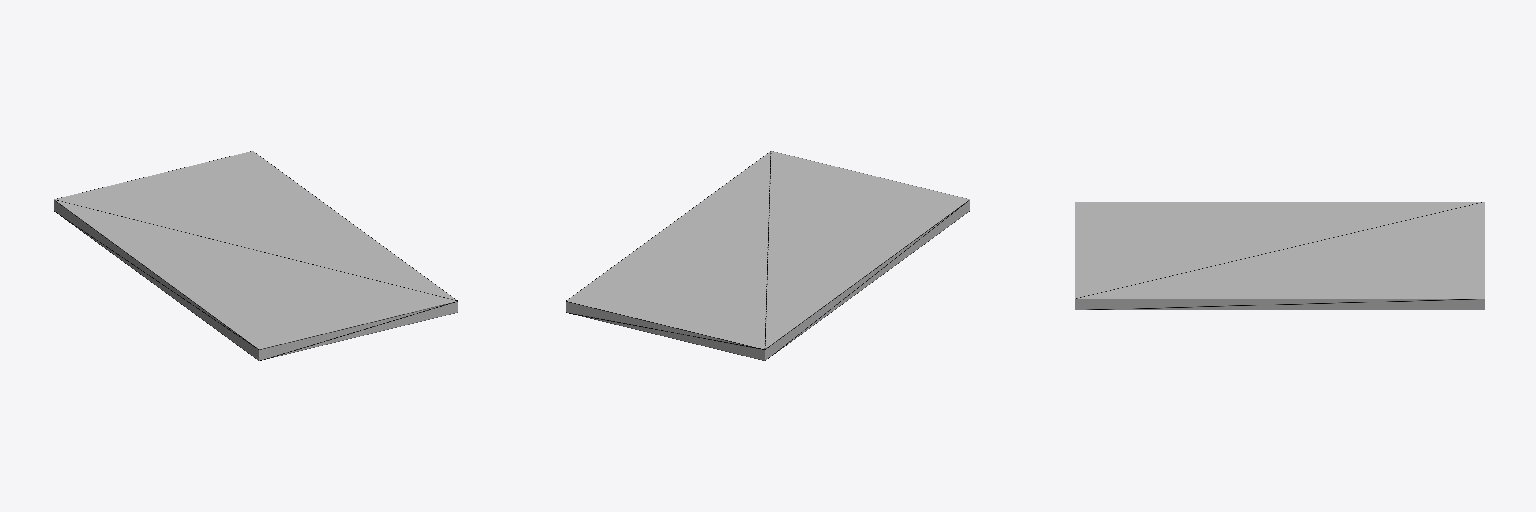
The picture shows the model from 3 angles: view 1: azimuth 30°, elevation 25°; view 2: azimuth 150°, elevation 25°; view 3: azimuth 270°, elevation 25°; orthographic projection.
Visible parts, largest first — view 1: foundationCube; view 2: foundationCube; view 3: foundationCube.
Boxes of the visible parts, box(x1,y1,x2,y2) form: foundationCube: box(54, 151, 457, 360); foundationCube: box(566, 151, 969, 360); foundationCube: box(1075, 202, 1484, 309).
Bounding box in the file's own units: 195 × 10.74 × 347.
Materials: 1 (1 with a texture image).